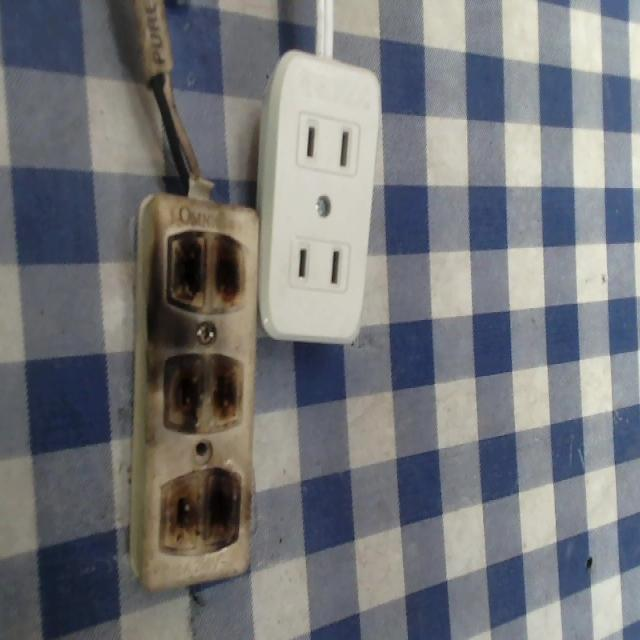-: (160, 347, 242, 453), (158, 462, 241, 554), (163, 225, 247, 314)
